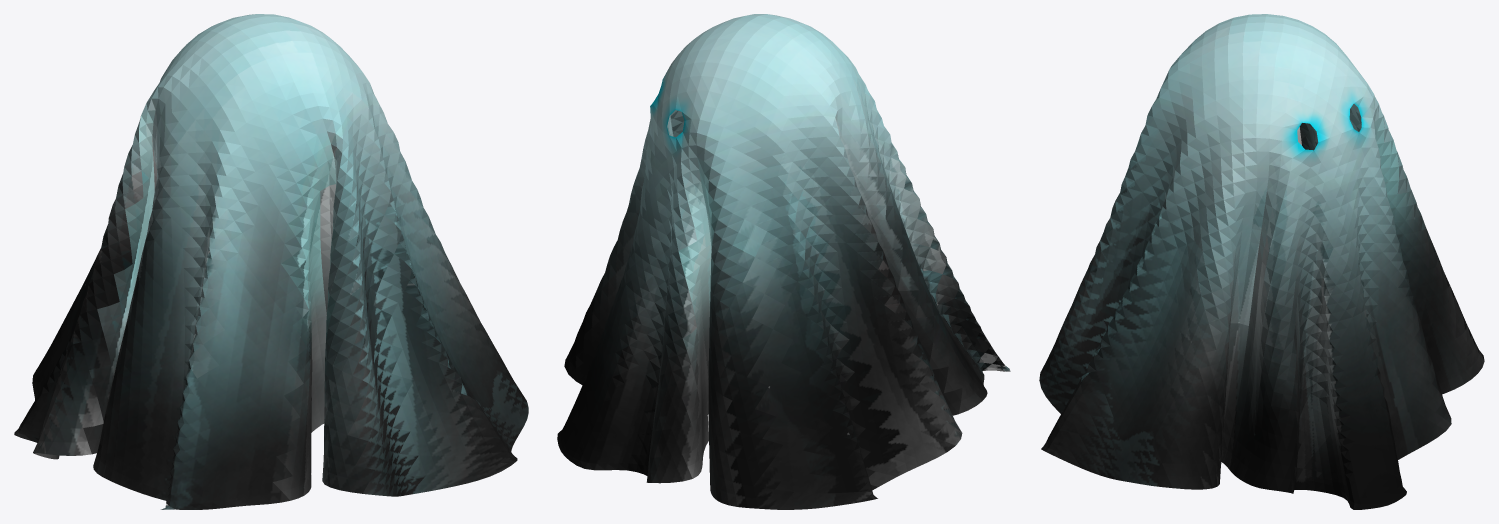
The model's file is ghost_shaded.obj.
3 renders of one model, left to right at view 1: azimuth 30°, elevation 25°; view 2: azimuth 150°, elevation 25°; view 3: azimuth 270°, elevation 25°, orthographic. The views are drawn at different scales.
Parts seen in each view (by area): view 1: Plane_Plane.004; view 2: Plane_Plane.004; view 3: Plane_Plane.004.
Boxes of the visible parts, box(x1,y1,x2,y2) form: Plane_Plane.004: box(14, 14, 528, 509); Plane_Plane.004: box(557, 14, 1010, 509); Plane_Plane.004: box(1039, 14, 1484, 509).
Size of the model in its own units: 2.4 by 2.37 by 2.28.
